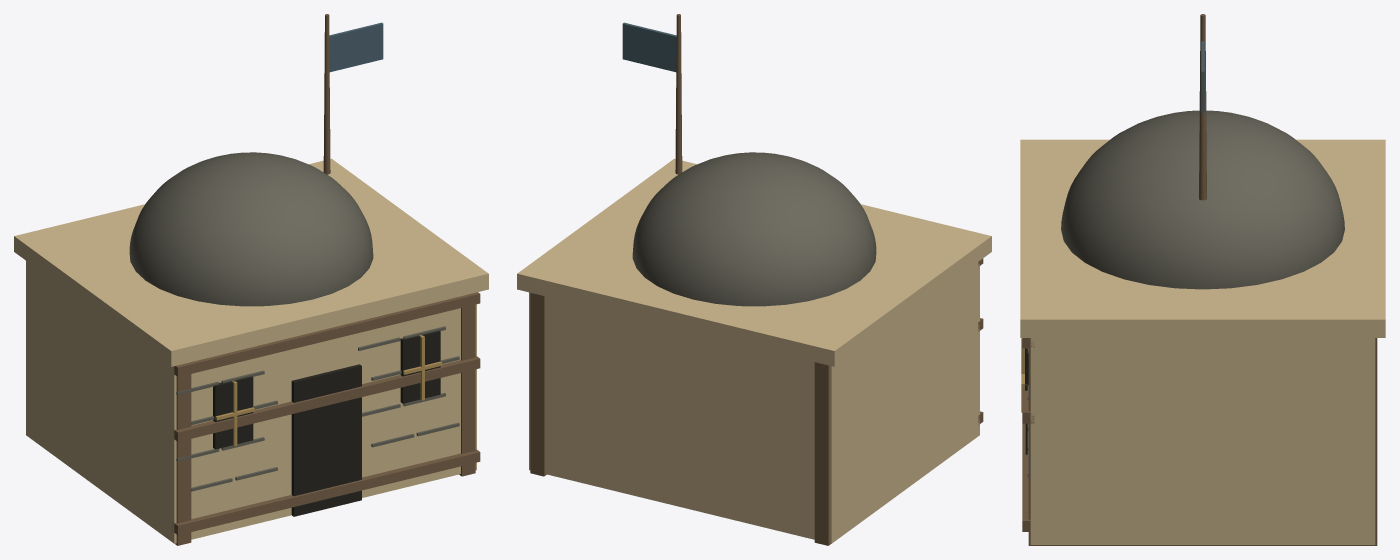
File: b-academy-ayyubid.glb
3 renders of one model, left to right at view 1: azimuth 30°, elevation 25°; view 2: azimuth 150°, elevation 25°; view 3: azimuth 270°, elevation 25°, orthographic. The views are drawn at different scales.
Visible parts, largest first — view 1: Structure; view 2: Structure; view 3: Structure.
Boxes of the visible parts, bbox=[...] form: Structure: bbox=[14, 14, 488, 545]; Structure: bbox=[517, 14, 991, 545]; Structure: bbox=[1020, 14, 1385, 545].
Bounding box in the file's own units: 4.2 × 5.33 × 3.6.
